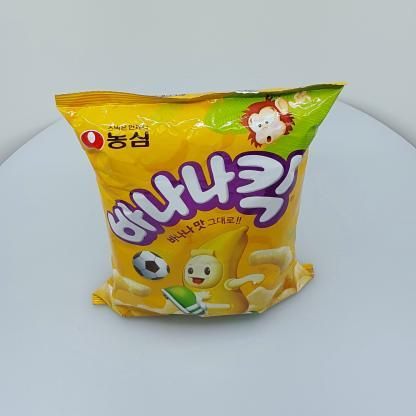Plastic Packaging: (47, 78, 360, 326)
